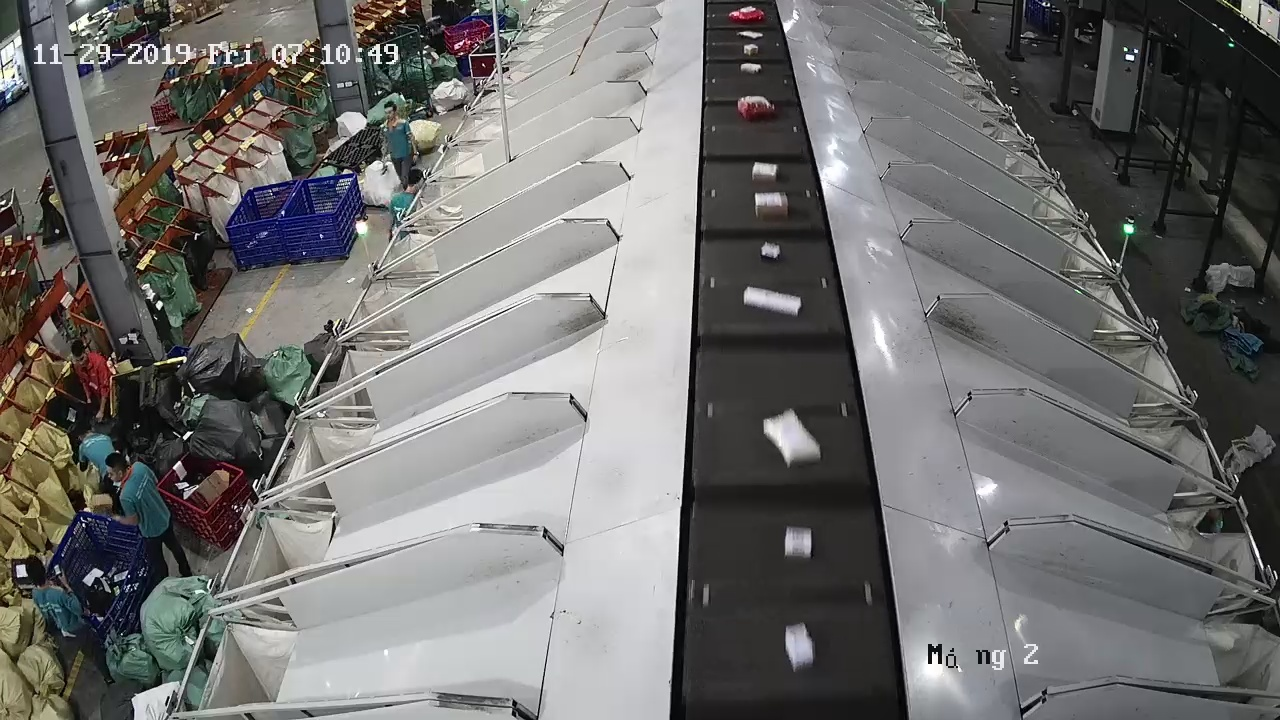parcel: (763, 410, 821, 468), (743, 287, 802, 317), (784, 622, 814, 673), (754, 191, 789, 220), (784, 526, 813, 560), (752, 162, 778, 183), (761, 242, 782, 262)
